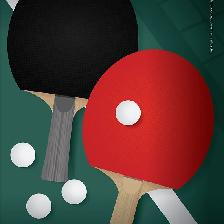WhiteBall: (115, 99, 141, 125), (25, 193, 51, 219), (60, 178, 86, 204), (10, 142, 35, 167)
